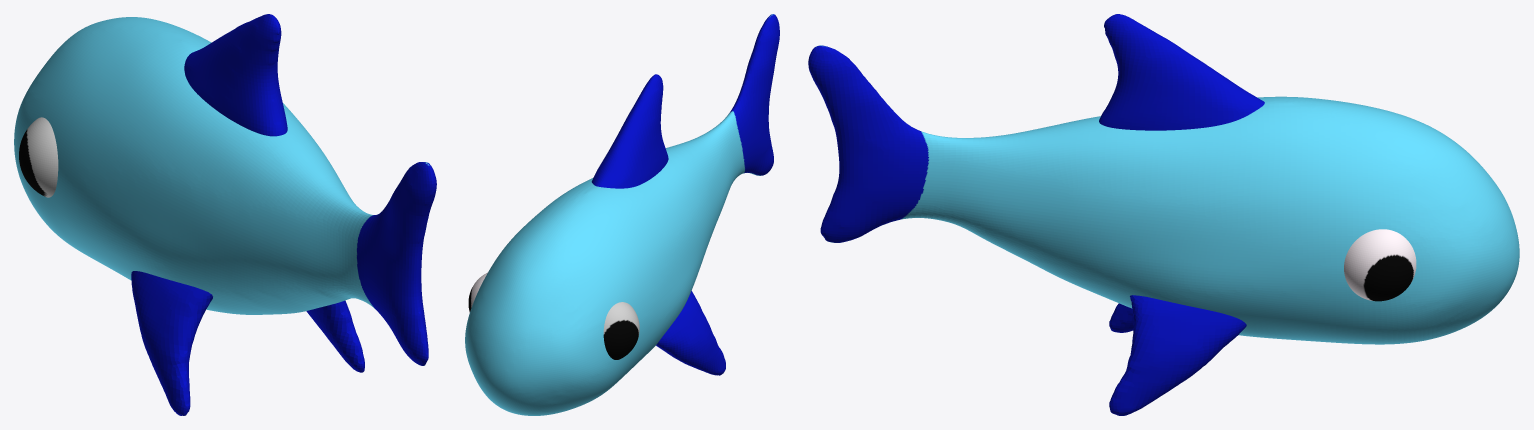
Rendered from petfish_v27.fbx.
3 views of the same model, side by side, from view 1: azimuth 30°, elevation 25°; view 2: azimuth 150°, elevation 25°; view 3: azimuth 270°, elevation 25° (orthographic). The views are drawn at different scales.
Visible parts, largest first — view 1: body, fin, top fin, eyes; view 2: body, top fin, fin, eyes; view 3: body, top fin, fin, eyes.
Part boxes in pixels (x1,y1,x2,y2): body: (14,17,436,365); fin: (131,271,364,415); top fin: (184,14,287,136); eyes: (19,117,58,197); body: (465,14,779,415); top fin: (591,74,668,188); fin: (656,290,725,375); eyes: (468,272,639,359); body: (808,45,1519,344); top fin: (1099,14,1264,130); fin: (1109,295,1246,415); eyes: (1344,229,1416,301).
Size of the model in its own units: 155 by 258 by 462.
1 material, 1 textured.
